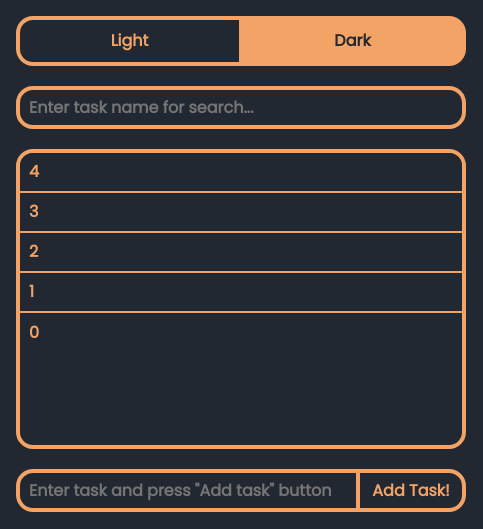
it: Todo page › actions › done task
Click the list item with test id "task-item" showing "4". click: (241,173)
box: [20, 153, 462, 193]
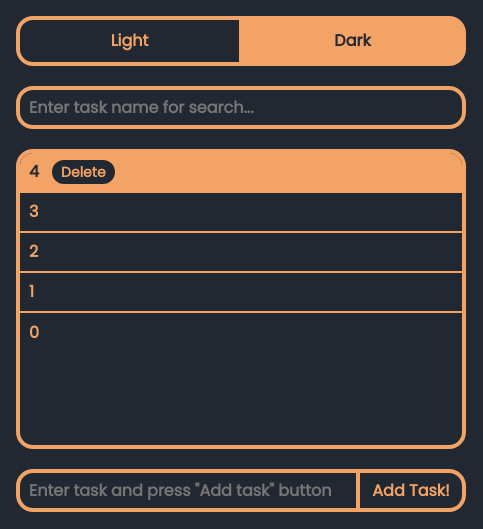
Expected: the number of buttons "Delete" is 1, [52, 160, 115, 184]
